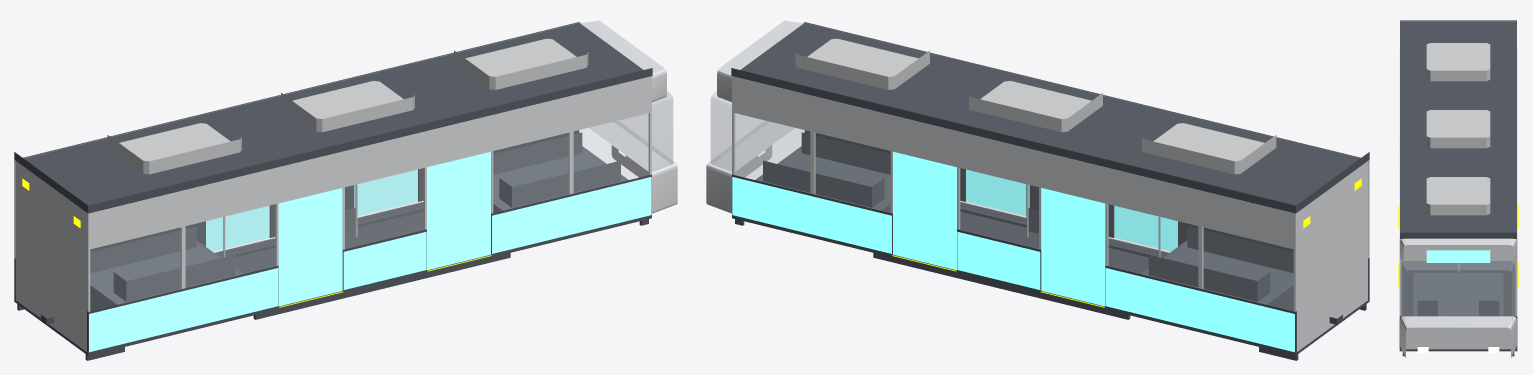
The model's file is ext_tram_car_body_05.glb.
The picture shows the model from 3 angles, left to right: view 1: azimuth 30°, elevation 25°; view 2: azimuth 150°, elevation 25°; view 3: azimuth 270°, elevation 25°; orthographic projection. The views are drawn at different scales.
Parts seen in each view (by area): view 1: Roof, Side_Glass, Wall, Livery_Stripe, Roof_Pods, End_Wall, Seats, Door_L_01, Door_L_02, Underframe, Wheel_Housing, Cab_Nose (+5 smaller); view 2: Roof, Side_Glass, Wall, Livery_Stripe, Roof_Pods, End_Wall, Seats, Door_R_01, Door_R_02, Underframe, Wheel_Housing, Cab_Nose (+5 smaller); view 3: Roof, Roof_Pods, Cab_Glass, Cab_Nose, Underframe, Wheel_Housing, Seats, Destination_Screen, Wall, Livery_Stripe, Door_Sills, Headlights (+2 smaller).
Boxes of the visible parts, bbox=[...] form: Roof: bbox=[14, 22, 652, 213]; Side_Glass: bbox=[90, 113, 649, 310]; Wall: bbox=[14, 23, 651, 311]; Livery_Stripe: bbox=[89, 177, 651, 352]; Roof_Pods: bbox=[107, 38, 588, 174]; End_Wall: bbox=[16, 161, 86, 351]; Seats: bbox=[90, 132, 620, 301]; Door_L_01: bbox=[278, 188, 342, 306]; Door_L_02: bbox=[427, 151, 490, 270]; Underframe: bbox=[14, 202, 651, 355]; Wheel_Housing: bbox=[90, 146, 628, 311]; Cab_Nose: bbox=[580, 20, 677, 213]; Roof: bbox=[731, 22, 1369, 213]; Side_Glass: bbox=[734, 113, 1293, 310]; Wall: bbox=[732, 23, 1369, 311]; Livery_Stripe: bbox=[732, 177, 1294, 352]; Roof_Pods: bbox=[795, 38, 1276, 174]; End_Wall: bbox=[1297, 161, 1367, 351]; Seats: bbox=[763, 132, 1293, 301]; Door_R_01: bbox=[1041, 188, 1105, 306]; Door_R_02: bbox=[893, 151, 956, 270]; Underframe: bbox=[732, 202, 1369, 355]; Wheel_Housing: bbox=[755, 146, 1293, 311]; Cab_Nose: bbox=[706, 20, 803, 213]; Roof: bbox=[1400, 20, 1516, 238]; Roof_Pods: bbox=[1426, 43, 1490, 215]; Cab_Glass: bbox=[1401, 261, 1515, 320]; Cab_Nose: bbox=[1400, 238, 1516, 357]; Underframe: bbox=[1399, 261, 1517, 351]; Wheel_Housing: bbox=[1413, 273, 1503, 316]; Seats: bbox=[1417, 275, 1499, 316]; Destination_Screen: bbox=[1426, 250, 1490, 262]; Wall: bbox=[1399, 49, 1517, 316]; Livery_Stripe: bbox=[1399, 130, 1517, 347]; Door_Sills: bbox=[1398, 205, 1518, 287]; Headlights: bbox=[1417, 347, 1499, 352].
Bounding box in the file's own units: 12.16 × 3.28 × 2.66.
